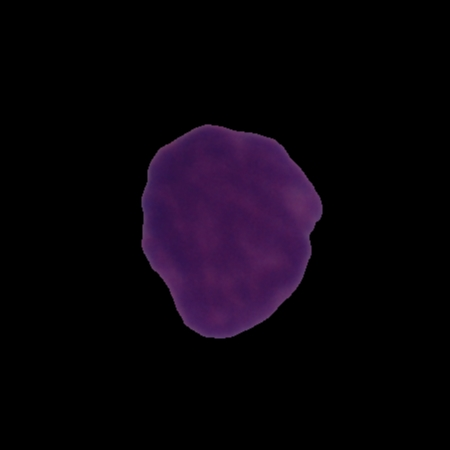ALL: (137, 119, 326, 342)
